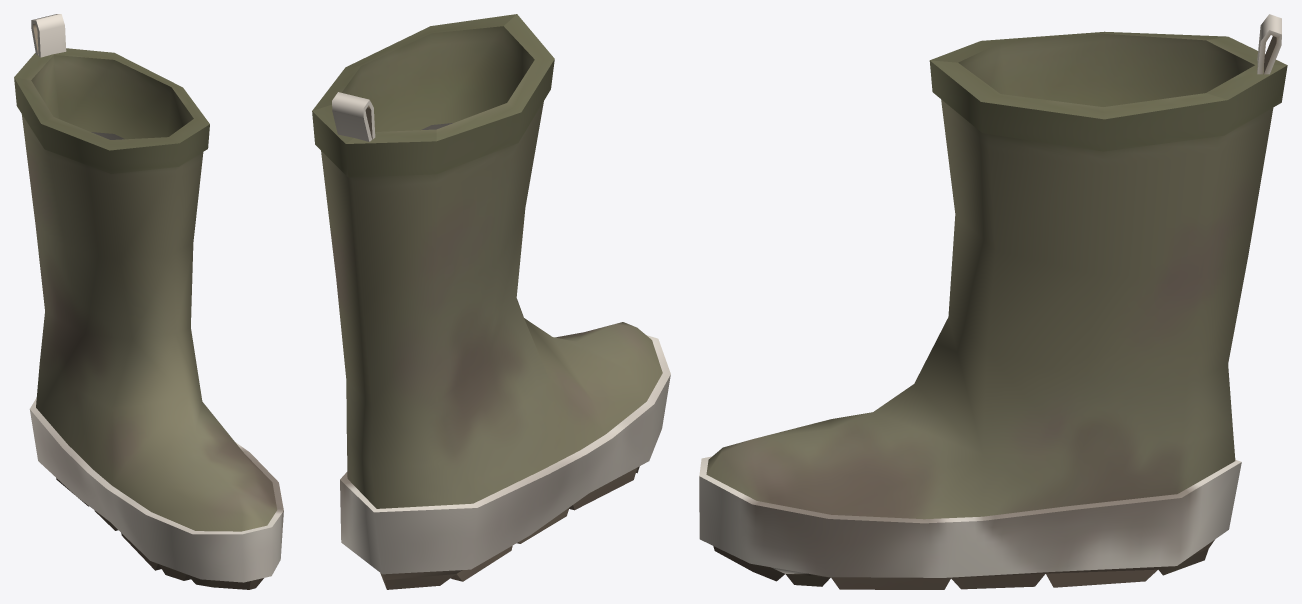
The model's file is gumboot_obj.fbx.
The picture shows the model from 3 angles, left to right: view 1: azimuth 30°, elevation 25°; view 2: azimuth 150°, elevation 25°; view 3: azimuth 270°, elevation 25°; orthographic projection. The views are drawn at different scales.
Visible parts, largest first — view 1: gumboot_obj; view 2: gumboot_obj; view 3: gumboot_obj.
Boxes of the visible parts, box(x1,y1,x2,y2) form: gumboot_obj: box(14, 14, 283, 589); gumboot_obj: box(312, 14, 670, 589); gumboot_obj: box(699, 14, 1287, 589).
Bounding box in the file's own units: 0.5263 × 1.44 × 1.42.
